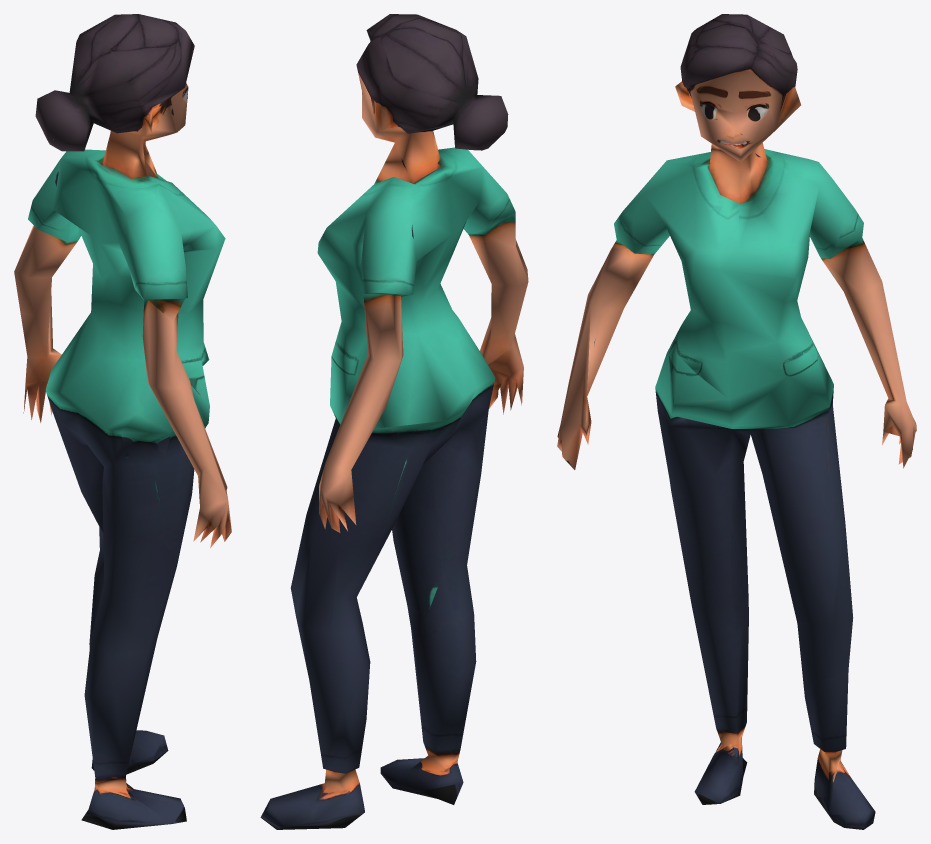
Rendered from receptionist.glb.
3 views of the same model, side by side, from view 1: azimuth 30°, elevation 25°; view 2: azimuth 150°, elevation 25°; view 3: azimuth 270°, elevation 25° (orthographic). The views are drawn at different scales.
Parts seen in each view (by area): view 1: tripo_node_1868fa50-64d6-44e9-9915-5026c0177ae1; view 2: tripo_node_1868fa50-64d6-44e9-9915-5026c0177ae1; view 3: tripo_node_1868fa50-64d6-44e9-9915-5026c0177ae1.
Boxes of the visible parts, x1,y1,x2,y2 form: tripo_node_1868fa50-64d6-44e9-9915-5026c0177ae1: (14, 14, 231, 829); tripo_node_1868fa50-64d6-44e9-9915-5026c0177ae1: (260, 14, 528, 829); tripo_node_1868fa50-64d6-44e9-9915-5026c0177ae1: (557, 14, 916, 829).
Size of the model in its own units: 0.2349 by 0.9772 by 0.4137.
1 material, 1 textured.
